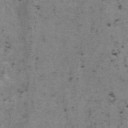oxide scale of temperature system: (88, 76, 125, 126), (90, 2, 122, 56), (6, 81, 30, 118), (0, 45, 11, 80), (16, 5, 40, 18), (68, 76, 73, 82), (42, 36, 46, 42), (78, 52, 84, 56)
